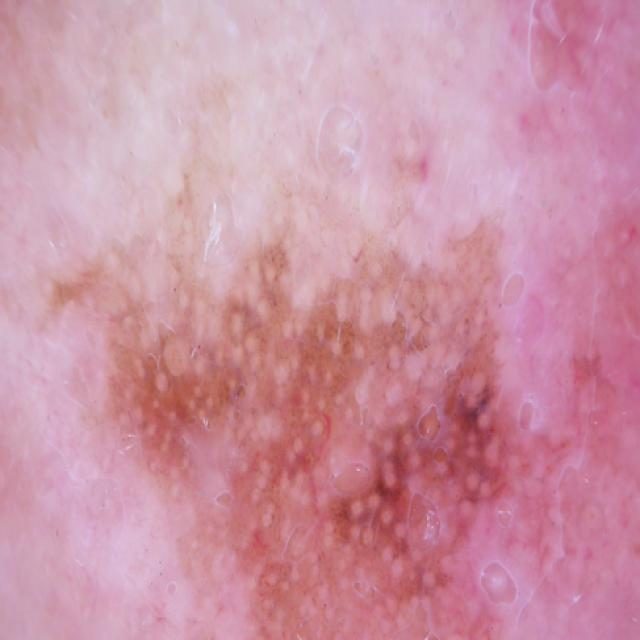Keratosis: (111, 307, 574, 640), (475, 1, 640, 298), (588, 368, 640, 639)
